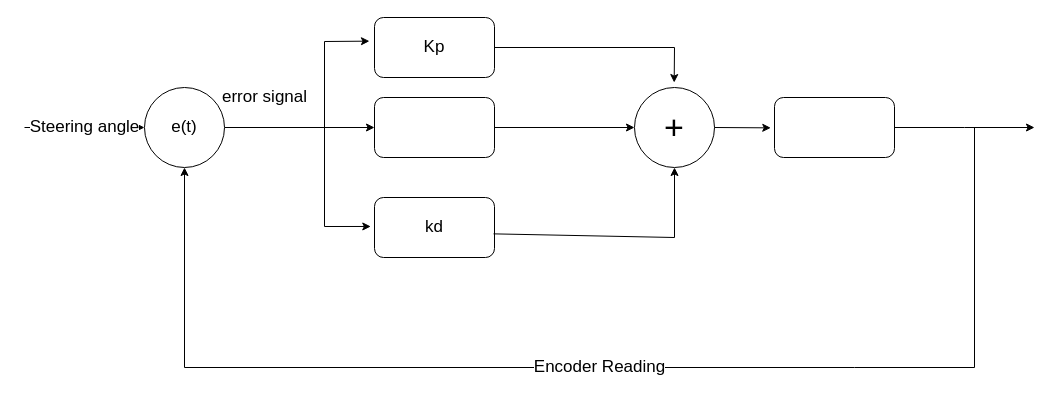
This 1060x395 diagram has some shape labels left out. The centre of each missing label's shape, as x and y in pixels:
Dual motor system: pixel 834 127
Ki: pixel 434 127
